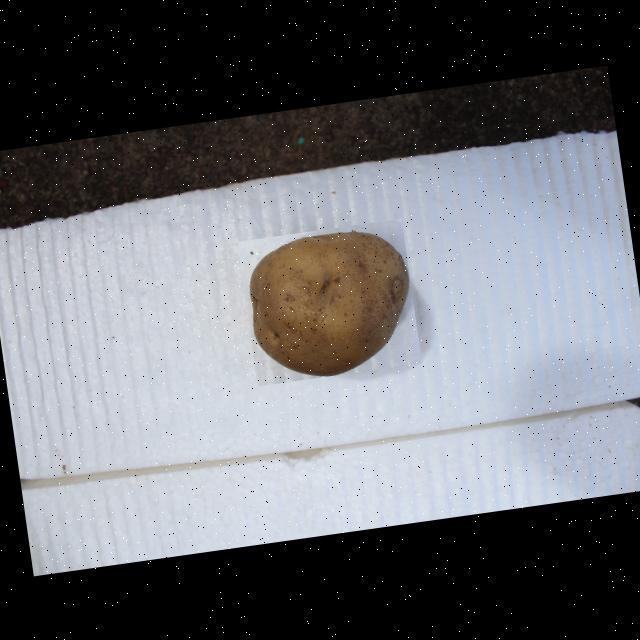Damaged potato: (236, 218, 421, 386)
